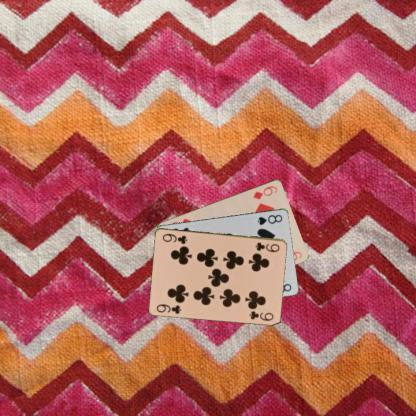6d: (251, 183, 278, 201)
8s: (254, 211, 284, 226)
9c: (254, 239, 281, 254), (154, 301, 182, 315)
